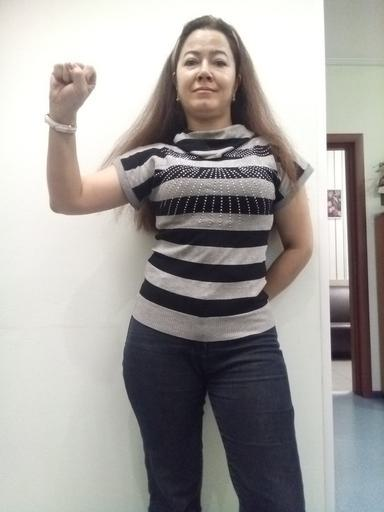fist: (48, 59, 98, 111)
